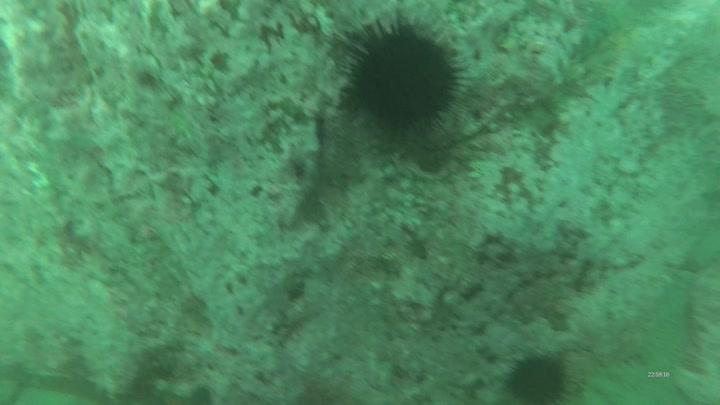urchin: (329, 6, 459, 138), (503, 341, 572, 405)
